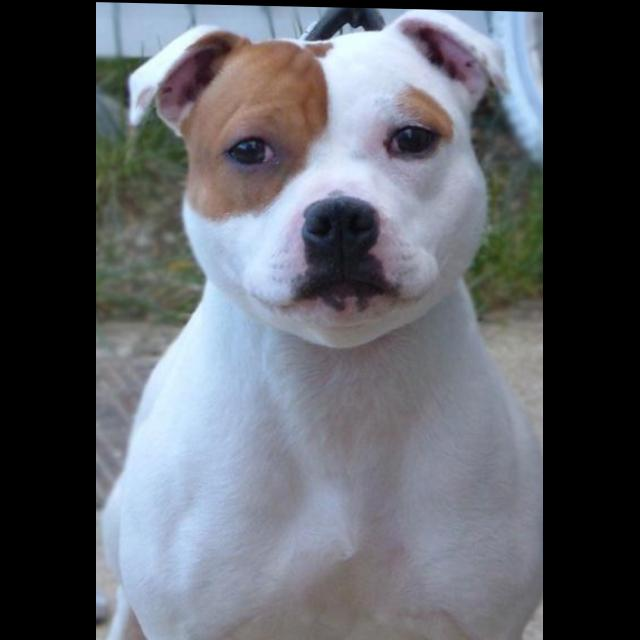staffford: (98, 3, 545, 640)
